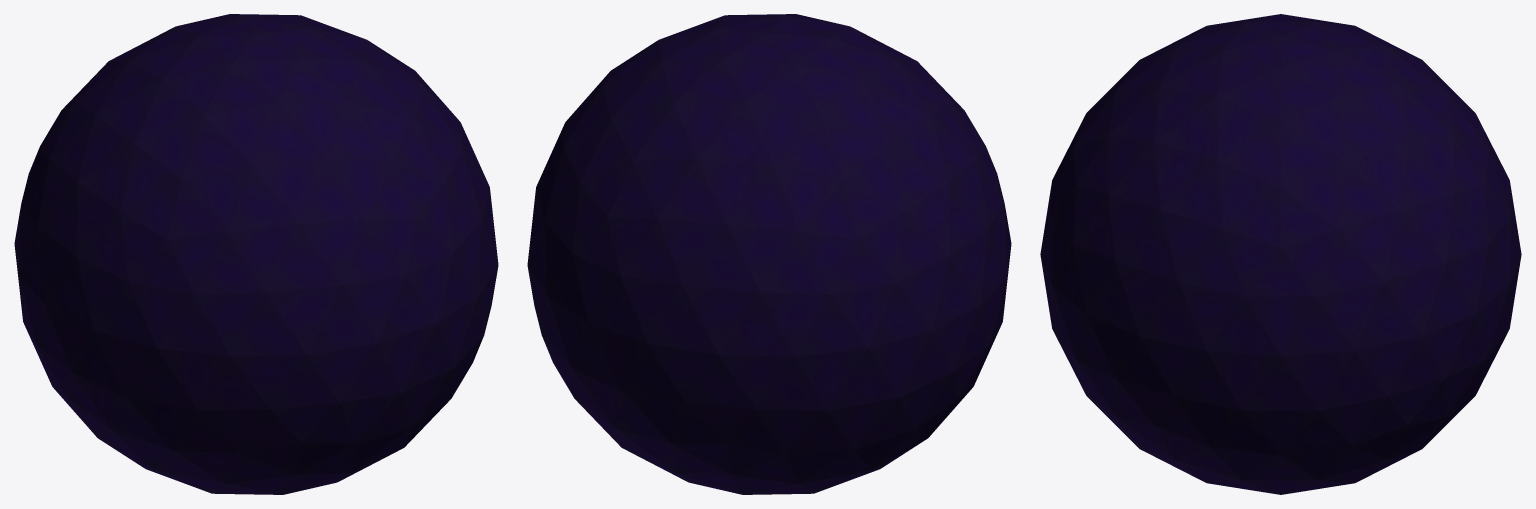
Rendered from void_sphere.obj.
3 renders of one model, left to right at view 1: azimuth 30°, elevation 25°; view 2: azimuth 150°, elevation 25°; view 3: azimuth 270°, elevation 25°, orthographic.
Parts seen in each view (by area): view 1: void_sphere; view 2: void_sphere; view 3: void_sphere.
Part boxes in pixels (bbox=[...]): void_sphere: bbox=[14, 14, 498, 494]; void_sphere: bbox=[527, 14, 1011, 494]; void_sphere: bbox=[1040, 14, 1521, 494].
Bounding box in the file's own units: 2 × 2 × 2.
